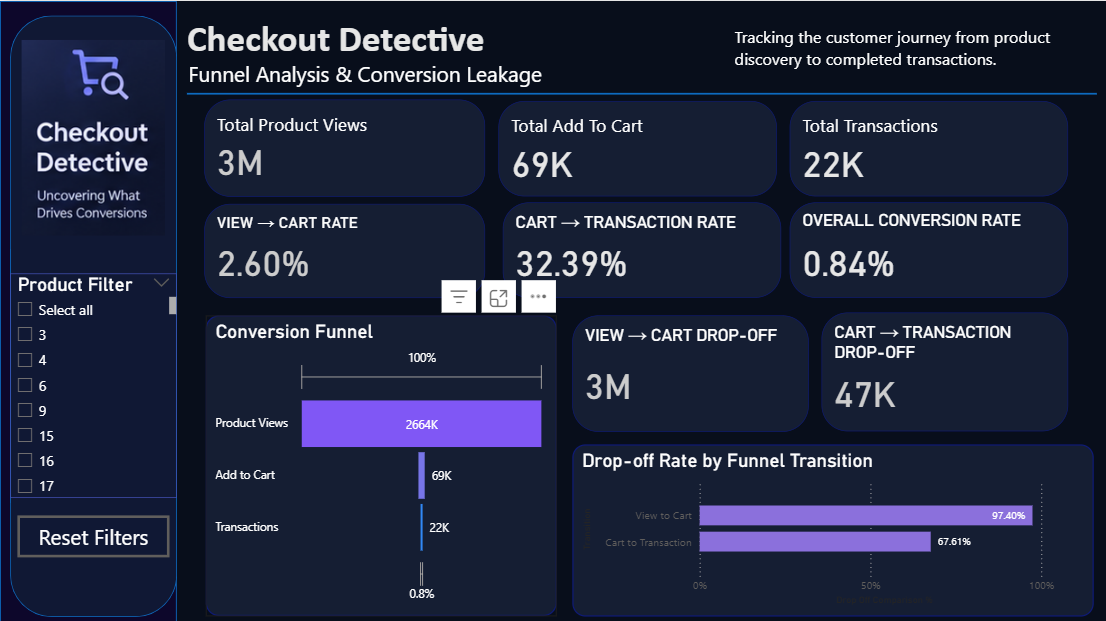

Layout of this report page (visuals, bound fields, positions):
{"tool":"powerbi","page":{"name":"Funnel Deep Dive","canvas":[1280,720],"ordinal":1},"visuals":[{"type":"shape","box":[0,0,203.3,720],"z":0},{"type":"shape","box":[215,100,1046.7,13.3],"z":1000},{"type":"textbox","box":[216,66,580,40],"z":2000},{"type":"textbox","box":[214.4,17.1,358.8,68.3],"z":3000},{"type":"shape","box":[12,16,192,692],"z":4000},{"type":"cardVisual","fields":{"Data":["Dim_Date.Total Product Views"]},"box":[235,113.3,323.3,111.7],"z":5000},{"type":"cardVisual","fields":{"Data":["Dim_Date.Total Add To Cart"]},"box":[573.3,115,320,110],"z":6000},{"type":"cardVisual","fields":{"Data":["Dim_Date.Total Transactions"]},"box":[908.3,115,320,110],"z":7000},{"type":"slicer","fields":{"Values":["product_performance.product_id"]},"box":[11.7,313.3,191.7,258.3],"z":8000},{"type":"actionButton","box":[20,591.7,175,48.3],"z":9000},{"type":"image","box":[20,40,175,235],"z":10000},{"type":"textbox","box":[845,28.3,416.7,56.7],"z":11000},{"type":"cardVisual","title":"VIEW → CART RATE","fields":{"Data":["product_performance.View to Cart Rate"]},"box":[235,233.3,323.3,108.3],"z":12000},{"type":"cardVisual","title":"CART → TRANSACTION RATE","fields":{"Data":["product_performance.Cart to Transaction Rate"]},"box":[578.3,231.7,320,110],"z":13000},{"type":"cardVisual","title":"OVERALL CONVERSION RATE","fields":{"Data":["product_performance.View to Transaction Rate"]},"box":[908.3,231.7,320,110],"z":14000},{"type":"funnel","title":"Conversion Funnel","fields":{"Category":["Funnel Stages.Stage"],"Y":["Funnel Stages.Funnel Stage Value"]},"box":[236,362,404,346],"z":15000},{"type":"cardVisual","title":"VIEW → CART DROP-OFF","fields":{"Data":["daily_conversion_metrics.View to Cart Drop Off"]},"box":[658,362,272,134],"z":16000},{"type":"cardVisual","title":"CART → TRANSACTION DROP-OFF","fields":{"Data":["daily_conversion_metrics.Cart to Transaction Drop Off"]},"box":[945,358.3,283.3,136.7],"z":17000},{"type":"clusteredBarChart","title":"Drop-off Rate by Funnel Transition","fields":{"Category":["Drop Off Stages.Transition"],"Y":["daily_conversion_metrics.Drop Off Comparison %"]},"box":[658,510,600,198],"z":18000}]}

Visuals, with their boxes in screenshot pixels (x1, y1, x2, y2), scaled from the page's 1280x720 canvas onto the 1106x621 screenshot:
shape: <region>0, 0, 176, 620</region>
shape: <region>186, 86, 1090, 98</region>
textbox: <region>187, 57, 688, 91</region>
textbox: <region>185, 15, 495, 74</region>
shape: <region>10, 14, 176, 611</region>
cardVisual - Dim_Date.Total Product Views: <region>203, 98, 482, 194</region>
cardVisual - Dim_Date.Total Add To Cart: <region>495, 99, 772, 194</region>
cardVisual - Dim_Date.Total Transactions: <region>785, 99, 1061, 194</region>
slicer - product_performance.product_id: <region>10, 270, 176, 493</region>
actionButton: <region>17, 510, 168, 552</region>
image: <region>17, 34, 168, 237</region>
textbox: <region>730, 24, 1090, 73</region>
"VIEW → CART RATE" cardVisual: <region>203, 201, 482, 295</region>
"CART → TRANSACTION RATE" cardVisual: <region>500, 200, 776, 295</region>
"OVERALL CONVERSION RATE" cardVisual: <region>785, 200, 1061, 295</region>
"Conversion Funnel" funnel: <region>204, 312, 553, 611</region>
"VIEW → CART DROP-OFF" cardVisual: <region>569, 312, 804, 428</region>
"CART → TRANSACTION DROP-OFF" cardVisual: <region>817, 309, 1061, 427</region>
"Drop-off Rate by Funnel Transition" clusteredBarChart: <region>569, 440, 1087, 611</region>
